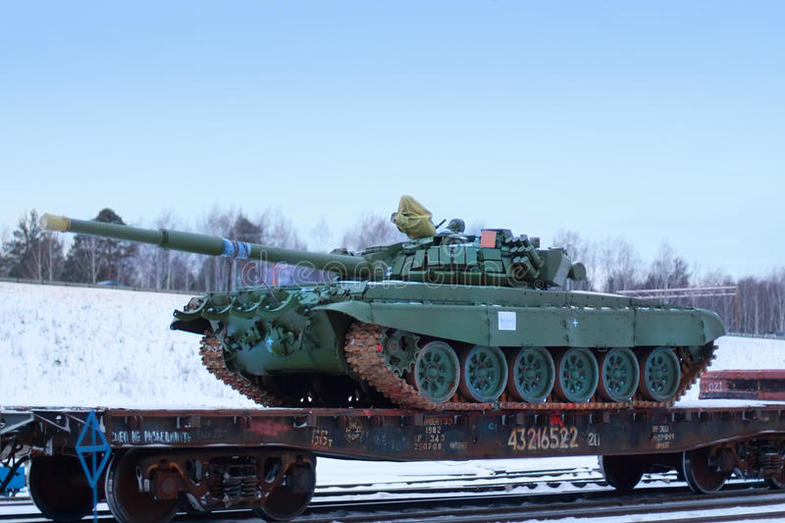t72: (35, 202, 730, 400)
